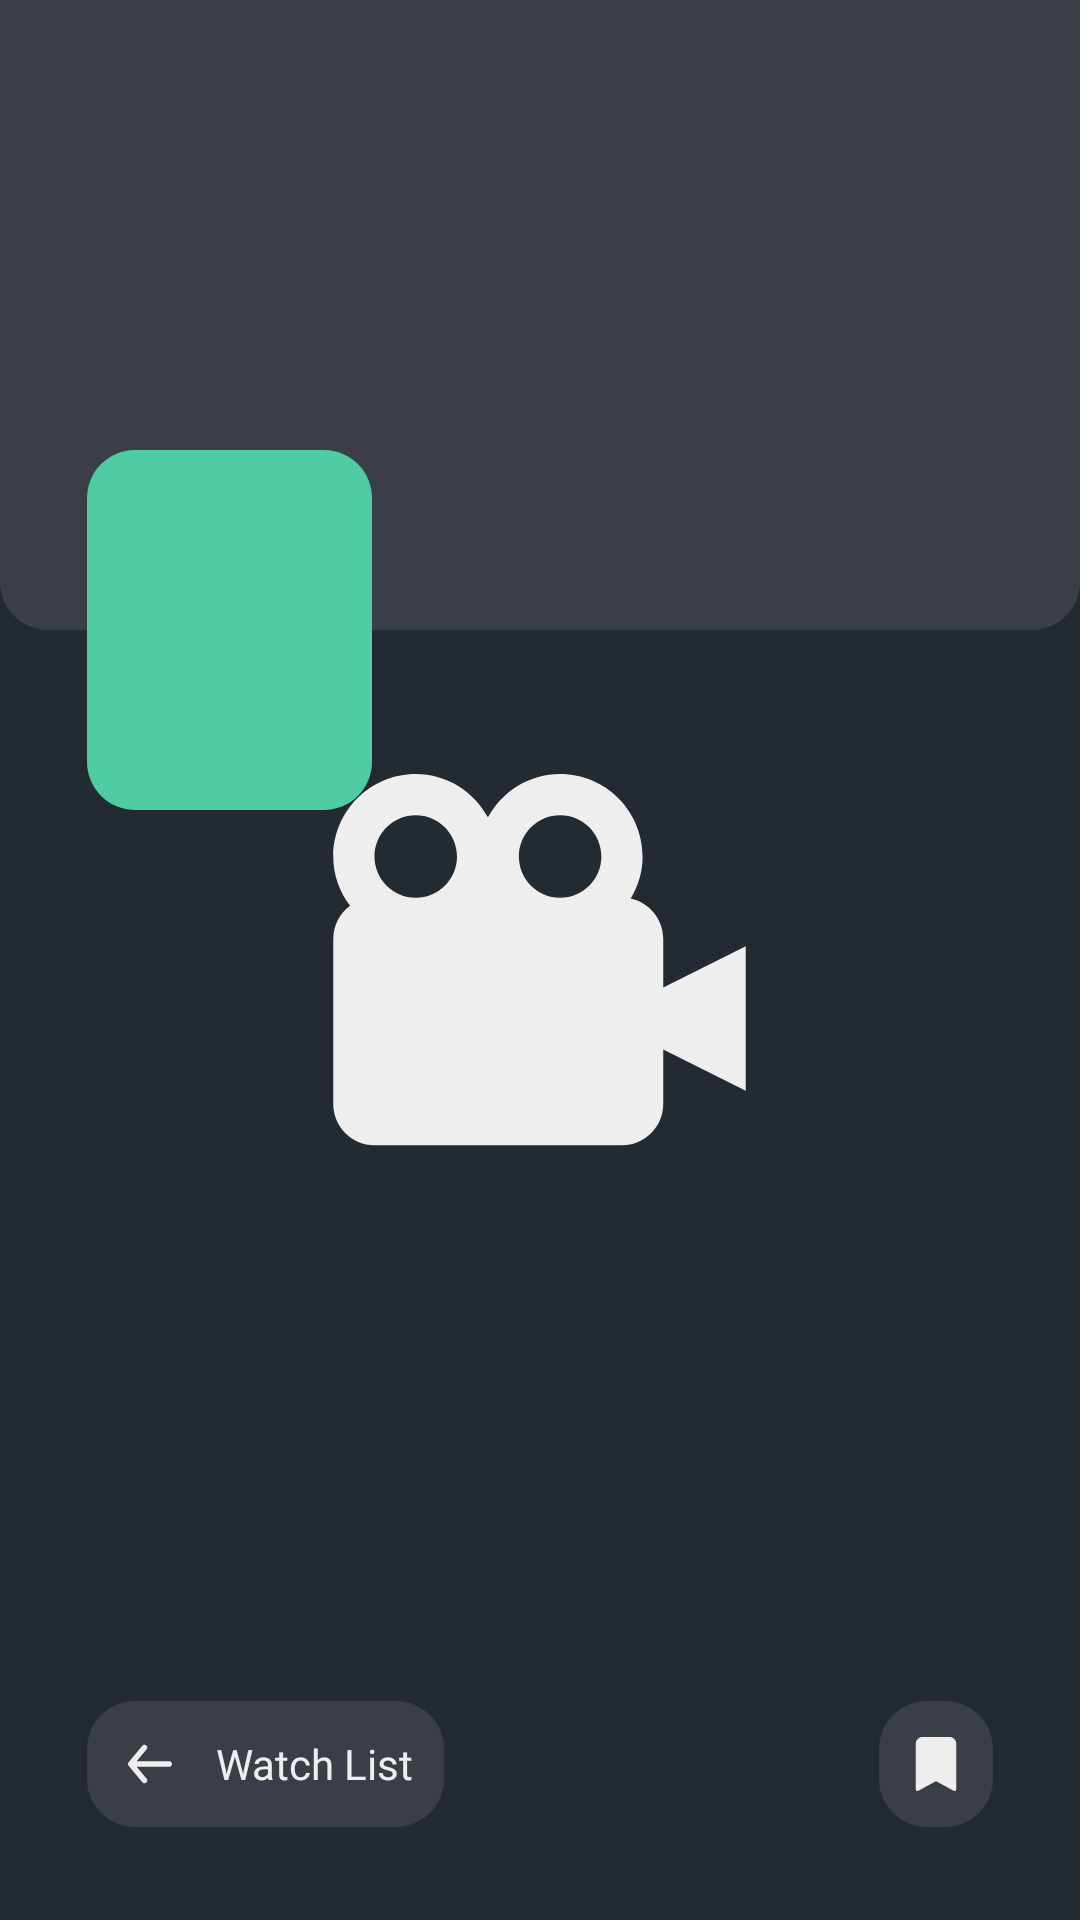

Point at icon controls on the screen. Image size 1080px×1920px, points as point (x, y).
back: point (150, 1764)
bookmark: point (936, 1764)
